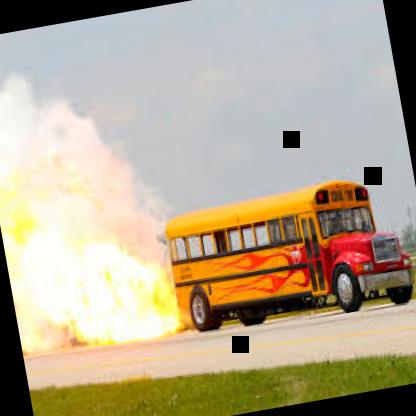fire: (0, 67, 183, 371)
